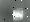person: (18, 9, 24, 21), (15, 11, 20, 21)
